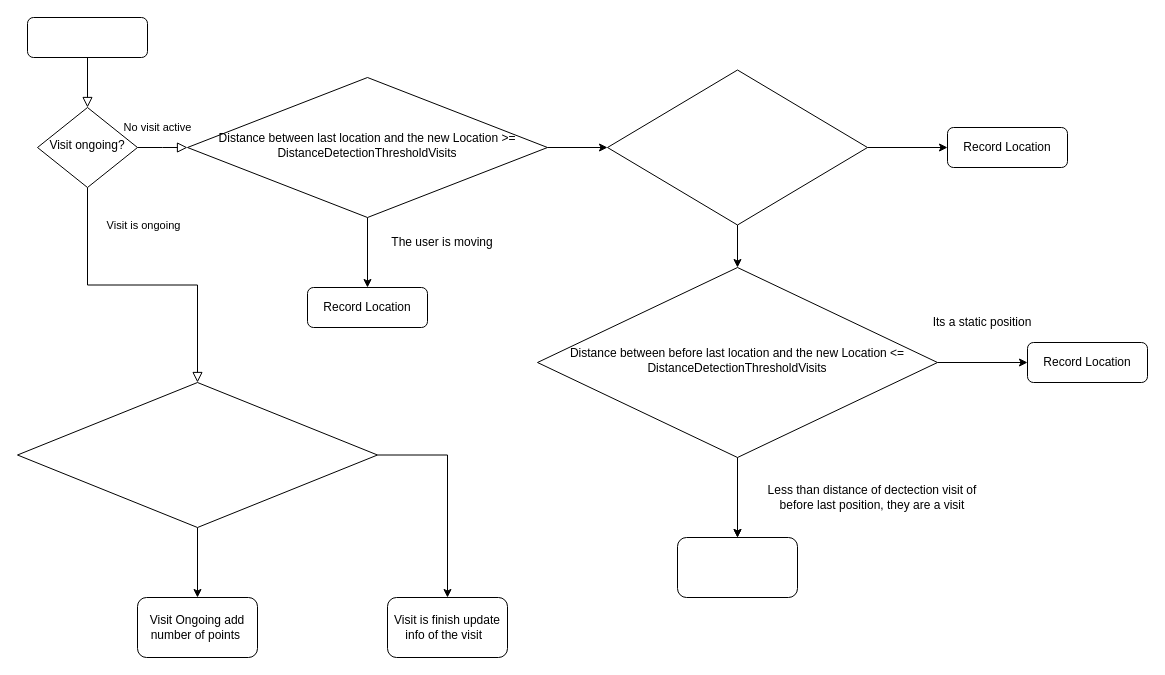
This 1165x675 diagram has some shape labels left out. Here are the shapes that lost their labels. From the top down, the centre of each, then its label:
[87,37]: New Location
[737,147]: Before last location != null
[197,455]: Distance between new location and the visit ongoing <= Accuray of location x 2
[737,567]: Create new Visit
